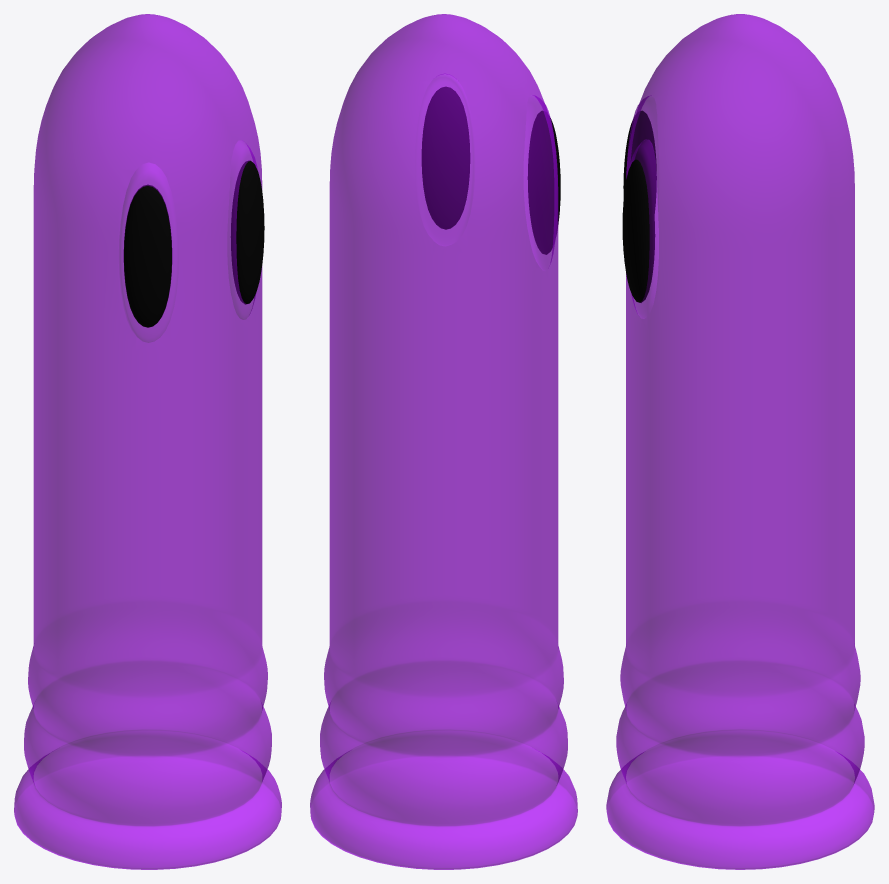
Rendered from Ennemis_MauveMarche.fbx.
3 views of the same model, side by side, from view 1: azimuth 30°, elevation 25°; view 2: azimuth 150°, elevation 25°; view 3: azimuth 270°, elevation 25° (orthographic).
Visible parts, largest first — view 1: MonstrePrincipal, Right_Eye, Right_eye; view 2: MonstrePrincipal, Right_eye, Right_Eye; view 3: MonstrePrincipal, Right_eye, Right_Eye.
Part boxes in pixels (x1,y1,x2,y2): MonstrePrincipal: (14, 14, 281, 869); Right_Eye: (123, 184, 172, 327); Right_eye: (231, 160, 264, 304); MonstrePrincipal: (310, 14, 577, 869); Right_eye: (421, 86, 470, 229); Right_Eye: (527, 110, 560, 254); MonstrePrincipal: (606, 14, 874, 869); Right_eye: (622, 159, 655, 302); Right_Eye: (623, 110, 656, 214).
Bounding box in the file's own units: 5.72 × 18.81 × 5.72.
